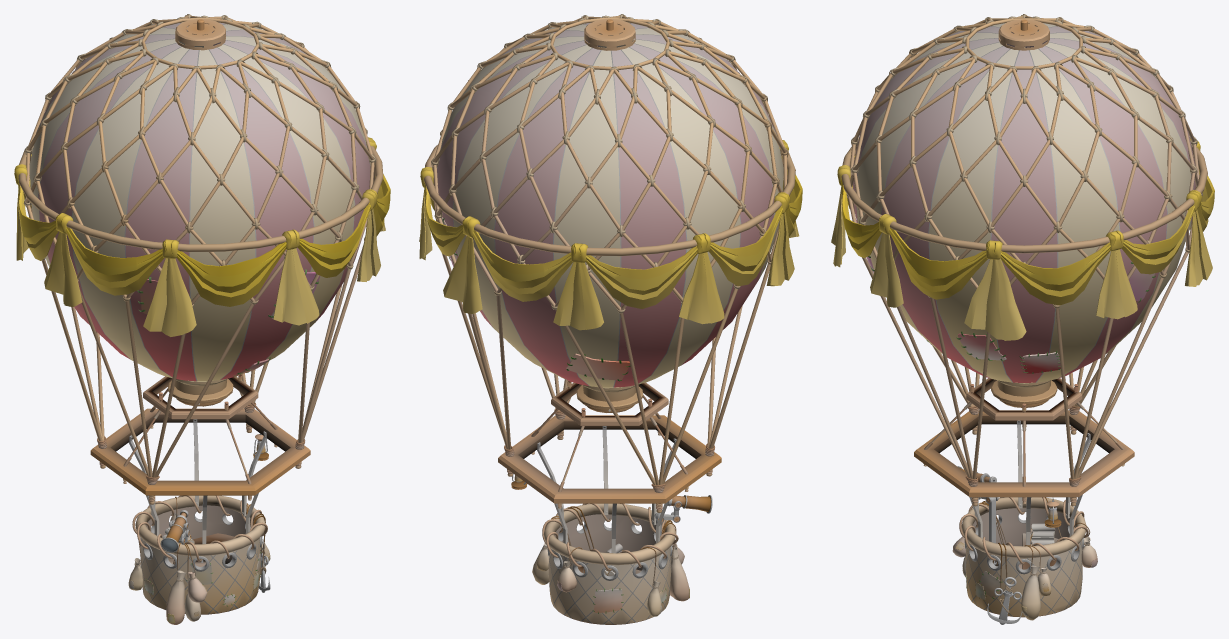
Rendered from HotBalloon.glb.
The picture shows the model from 3 angles, left to right: view 1: azimuth 30°, elevation 25°; view 2: azimuth 150°, elevation 25°; view 3: azimuth 270°, elevation 25°; orthographic projection.
Visible parts, largest first — view 1: Sphere.003, Sphere.061, Plane.011, Plane.018, Cylinder.005, Cylinder, Sphere.001, Circle.008, Cylinder.011, Cylinder.003, Plane.001, Cylinder.001 (+6 smaller); view 2: Sphere.003, Sphere.061, Plane.011, Plane.018, Cylinder.005, Cylinder, Sphere.001, Circle.008, Cylinder.011, Cylinder.003, Cylinder.001, Plane.001 (+8 smaller); view 3: Sphere.003, Sphere.061, Plane.011, Plane.018, Cylinder.005, Cylinder, Sphere.001, Circle.008, Cylinder.011, Cylinder.003, Cylinder.002, Cylinder.001 (+7 smaller).
Part boxes in pixels (bbox=[...]): Sphere.003: bbox=[29, 22, 370, 381]; Sphere.061: bbox=[25, 15, 375, 504]; Plane.011: bbox=[17, 154, 390, 306]; Plane.018: bbox=[16, 189, 385, 336]; Cylinder.005: bbox=[140, 505, 260, 614]; Cylinder: bbox=[90, 408, 310, 495]; Sphere.001: bbox=[18, 146, 383, 252]; Circle.008: bbox=[23, 14, 376, 306]; Cylinder.011: bbox=[135, 495, 265, 556]; Cylinder.003: bbox=[143, 376, 258, 419]; Plane.001: bbox=[128, 419, 267, 543]; Cylinder.001: bbox=[175, 19, 225, 50]; Sphere.003: bbox=[437, 22, 783, 387]; Sphere.061: bbox=[432, 15, 787, 512]; Plane.011: bbox=[424, 170, 802, 308]; Plane.018: bbox=[419, 180, 799, 330]; Cylinder.005: bbox=[548, 514, 671, 624]; Cylinder: bbox=[498, 415, 721, 503]; Sphere.001: bbox=[424, 145, 795, 256]; Circle.008: bbox=[431, 14, 788, 313]; Cylinder.011: bbox=[543, 503, 676, 565]; Cylinder.003: bbox=[551, 382, 668, 425]; Cylinder.001: bbox=[584, 19, 635, 50]; Plane.001: bbox=[537, 426, 676, 553]; Sphere.003: bbox=[853, 23, 1195, 382]; Sphere.061: bbox=[848, 15, 1199, 506]; Plane.011: bbox=[841, 155, 1214, 305]; Plane.018: bbox=[831, 187, 1212, 340]; Cylinder.005: bbox=[965, 508, 1082, 617]; Cylinder: bbox=[914, 410, 1134, 497]; Sphere.001: bbox=[841, 146, 1207, 253]; Circle.008: bbox=[846, 14, 1203, 308]; Cylinder.011: bbox=[961, 497, 1086, 558]; Cylinder.003: bbox=[966, 378, 1082, 420]; Cylinder.002: bbox=[991, 380, 1057, 407]; Cylinder.001: bbox=[998, 19, 1049, 50].
Bounding box in the file's own units: 10.02 × 16.79 × 10.09.
